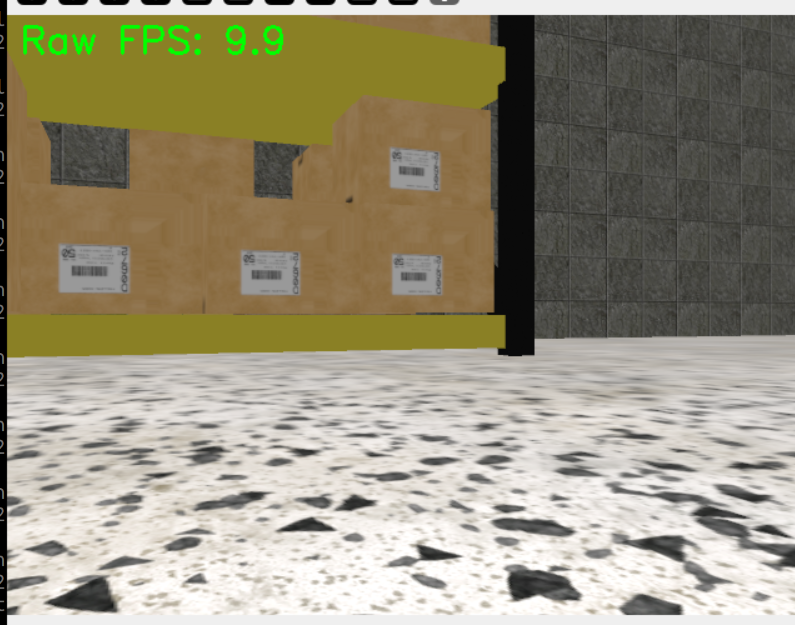barcode: (57, 244, 132, 294), (239, 248, 302, 297), (389, 252, 445, 298), (388, 146, 442, 193)
